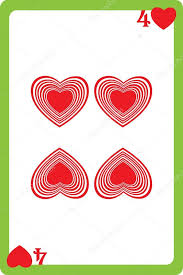four of hearts: (8, 10, 175, 266)
